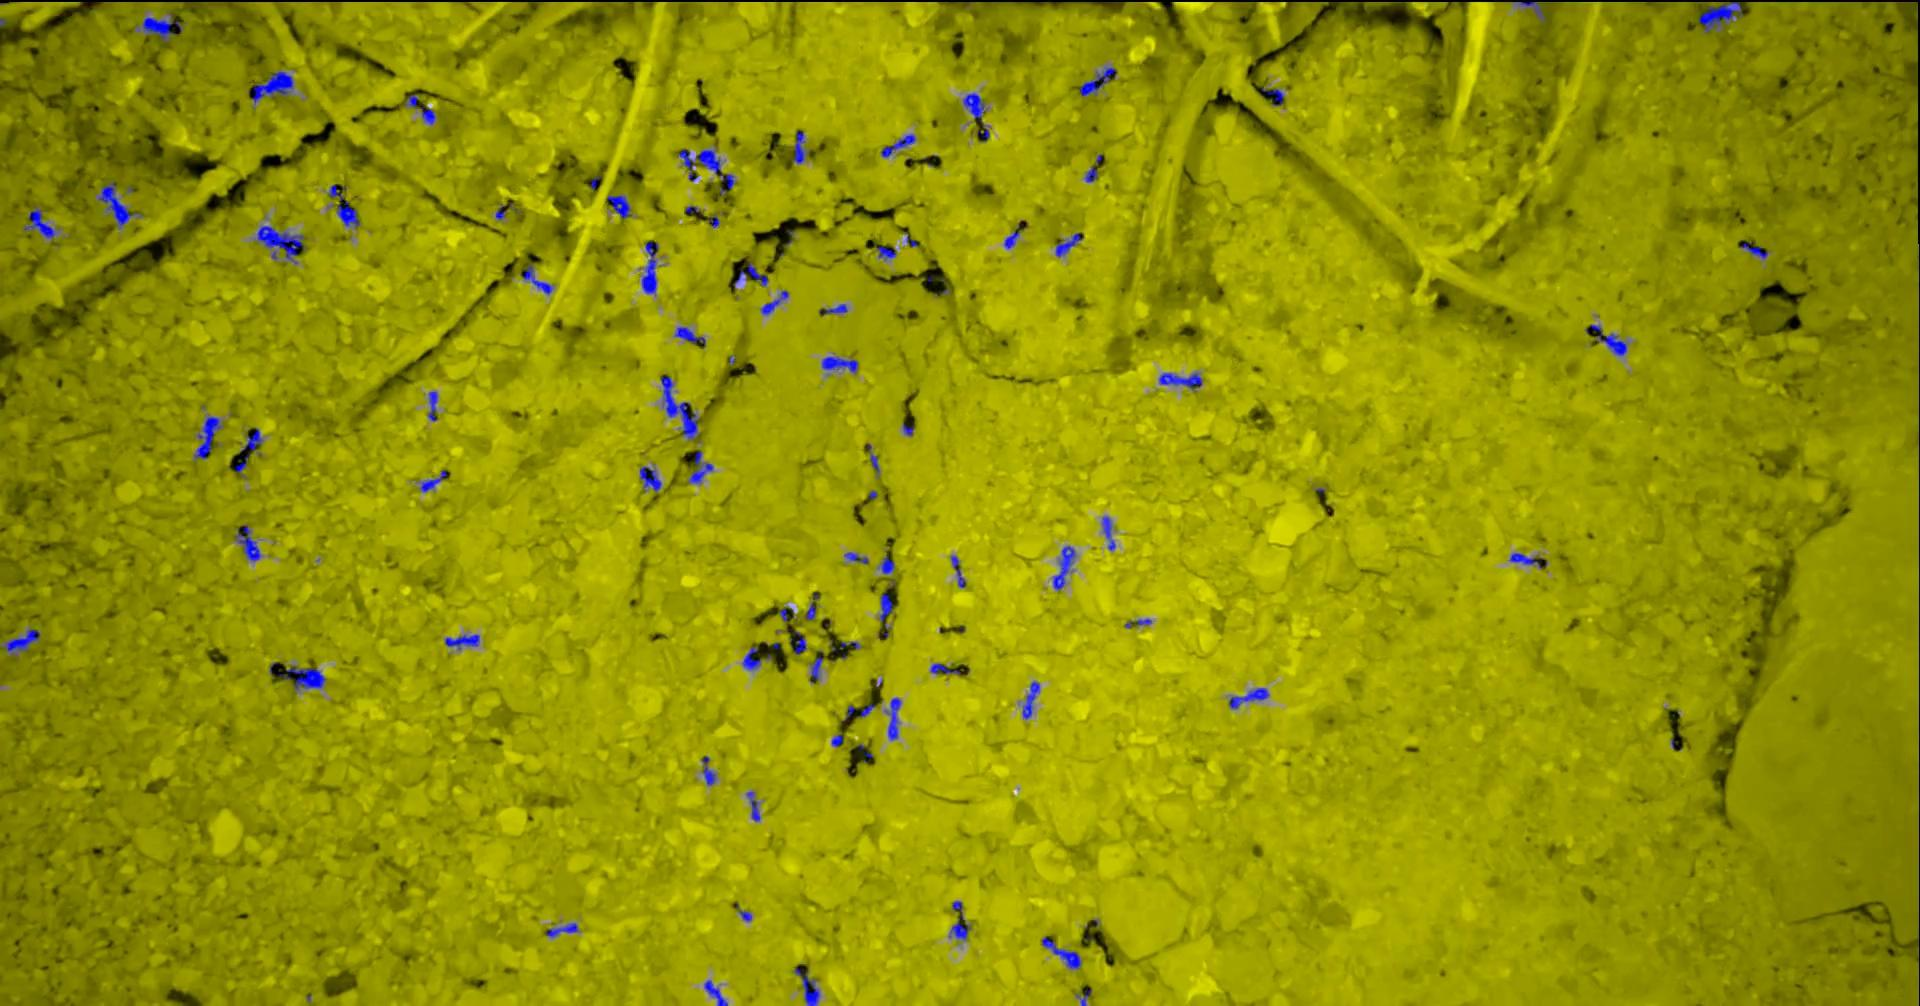ant: (662, 376, 700, 439), (681, 149, 737, 188), (258, 225, 307, 260), (100, 180, 136, 227), (250, 71, 295, 104), (1700, 0, 1743, 32), (138, 13, 183, 42), (1587, 324, 1629, 354), (236, 427, 264, 473), (1043, 936, 1082, 968), (196, 417, 223, 459), (279, 666, 328, 688), (25, 205, 57, 238), (1081, 67, 1117, 95), (1054, 545, 1077, 589), (795, 967, 822, 1005), (522, 263, 554, 293), (8, 627, 41, 654), (643, 241, 659, 293), (237, 525, 262, 560), (883, 133, 917, 158), (735, 262, 770, 286), (1230, 687, 1270, 708), (690, 450, 714, 483), (964, 91, 987, 122), (1161, 372, 1203, 389), (1057, 232, 1084, 257), (762, 290, 790, 314), (1023, 681, 1041, 718), (886, 697, 902, 739), (823, 356, 858, 373), (705, 979, 729, 1005), (338, 201, 361, 227), (422, 469, 448, 492), (676, 326, 707, 344), (1004, 224, 1027, 248), (1520, 0, 1545, 22), (641, 466, 663, 492), (446, 634, 481, 649), (608, 196, 631, 218), (1103, 514, 1117, 550), (1511, 553, 1543, 568), (549, 922, 579, 937), (952, 555, 966, 587), (811, 650, 825, 682), (1742, 241, 1769, 258), (950, 920, 971, 940), (1262, 86, 1285, 105), (703, 754, 717, 785), (791, 629, 808, 654), (744, 647, 762, 669), (748, 791, 761, 821), (795, 131, 806, 163), (881, 593, 894, 621), (932, 663, 963, 674), (429, 391, 439, 420), (422, 105, 437, 124), (822, 304, 850, 314), (877, 245, 897, 259), (883, 554, 897, 573), (833, 641, 862, 650), (844, 553, 870, 563), (1126, 619, 1153, 627), (330, 184, 345, 199), (1078, 989, 1093, 1005), (406, 94, 420, 107), (1086, 166, 1098, 180), (808, 602, 817, 619), (833, 734, 844, 746)
